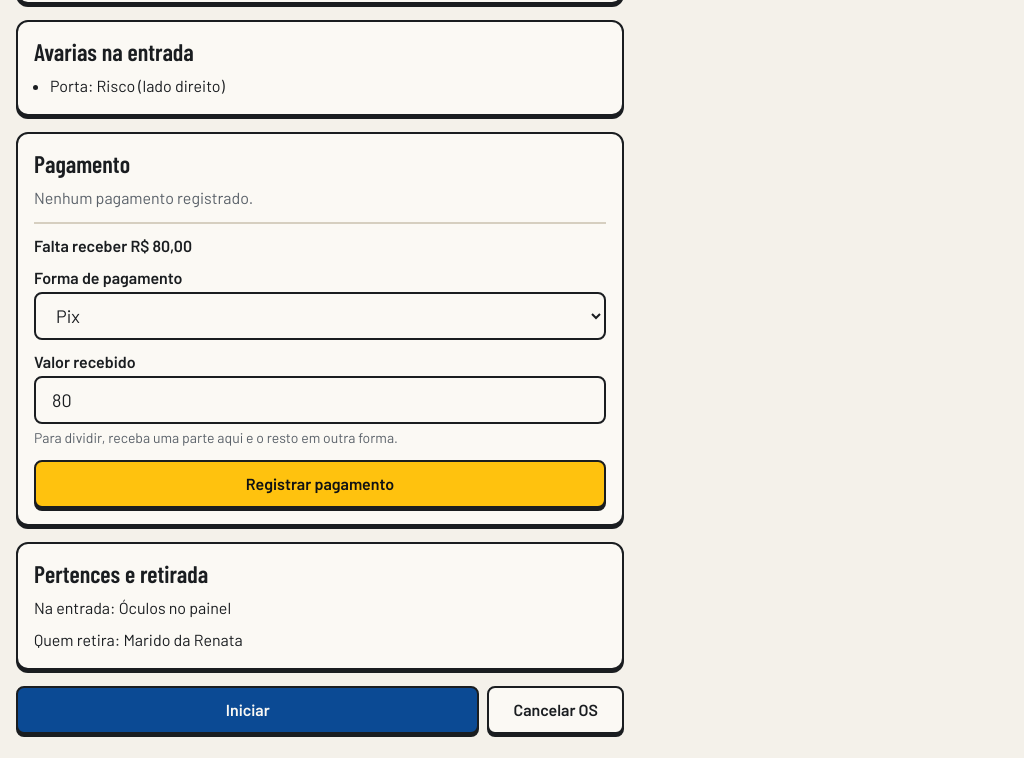
Test: Detalhe da OS (dono) › cancelar pede confirmação e leva a tela para Cancelada
(page scrolled)
Click the button "Cancelar OS". click: click(556, 710)
box: [488, 686, 624, 734]
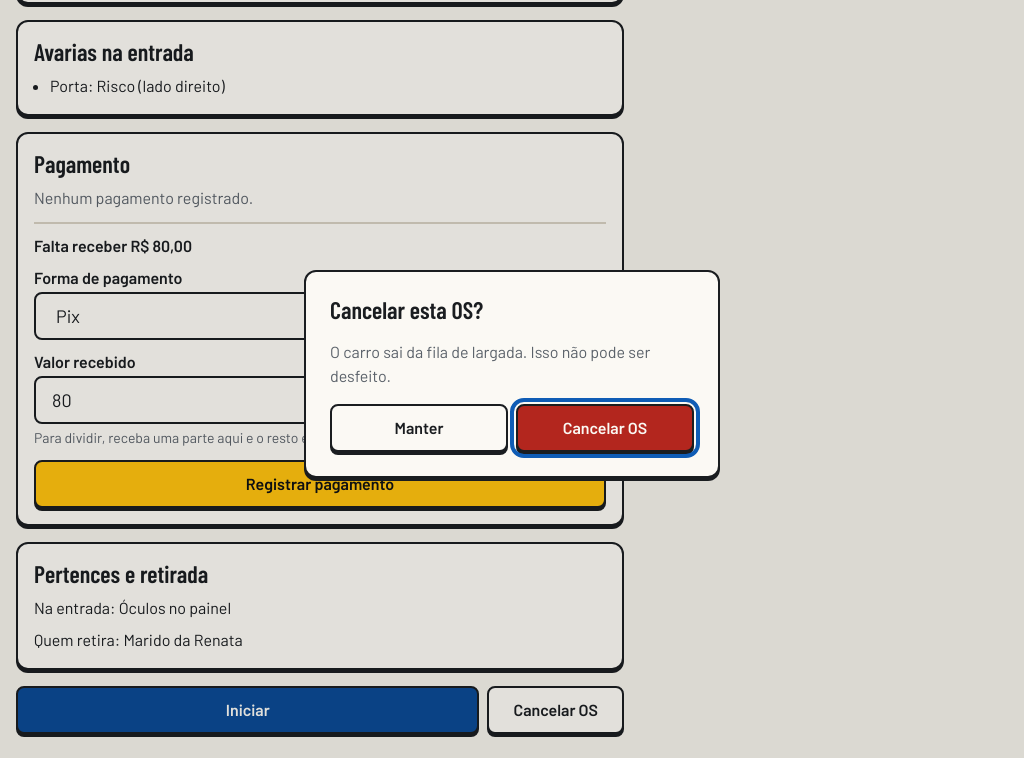
Click the button "Cancelar OS". click: click(605, 428)
box: [516, 404, 694, 452]
(page scrolled)
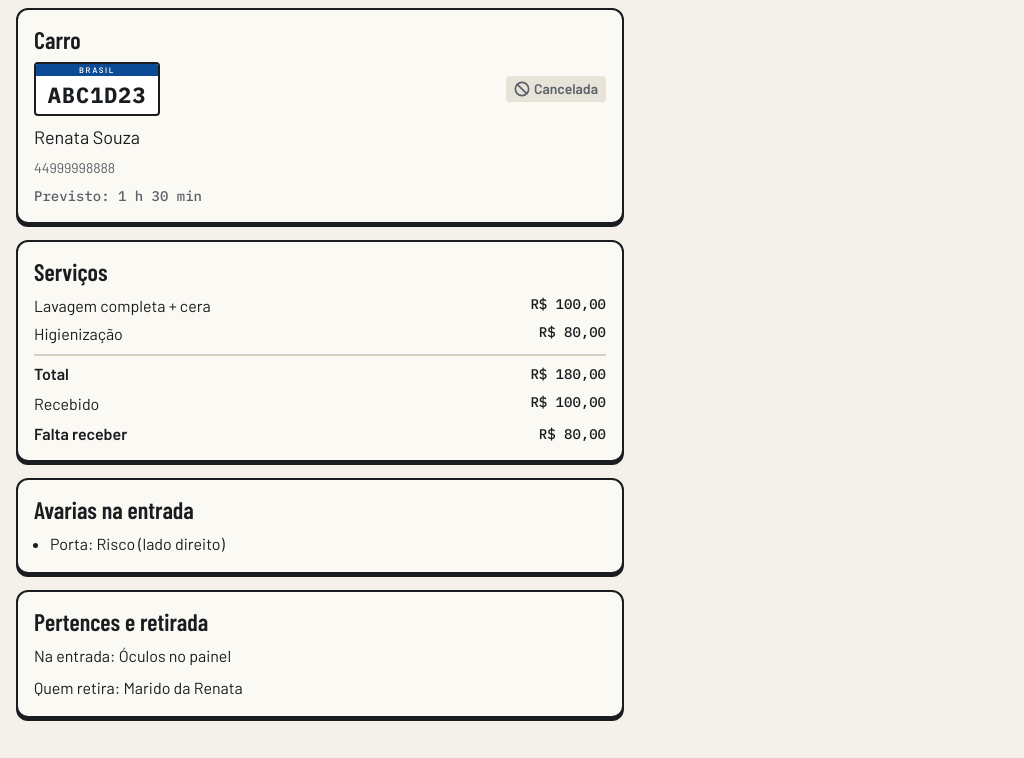
Check: the text "Cancelada" is shown, box [506, 76, 606, 102]
